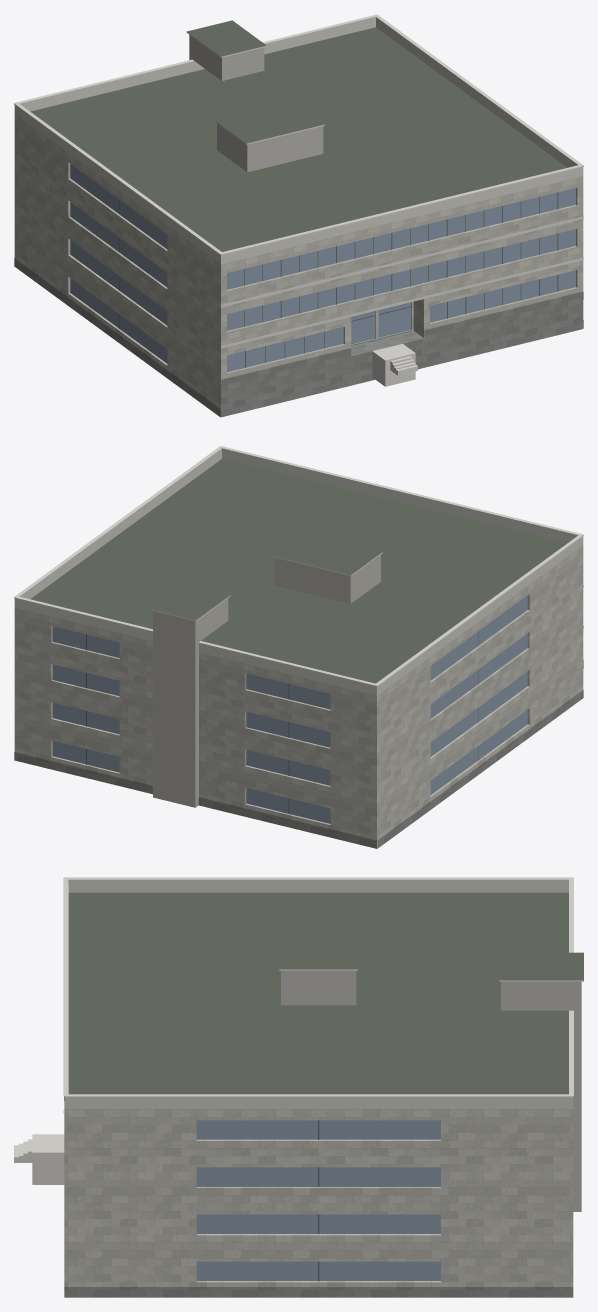
3 views of the same model, one above another, from view 1: azimuth 30°, elevation 25°; view 2: azimuth 150°, elevation 25°; view 3: azimuth 270°, elevation 25° (orthographic). The views are drawn at different scales.
Parts seen in each view (by area): view 1: b945__roof, b945__wall, b945__glass, b945__base, b945__parapet, b945__trim, b945__wall2, b945__entranceStair, b945__frame; view 2: b945__wall, b945__roof, b945__glass, b945__wall2, b945__parapet, b945__base, b945__trim; view 3: b945__roof, b945__wall, b945__glass, b945__parapet, b945__wall2, b945__trim, b945__base, b945__entranceStair.
Part boxes in pixels (<box>): b945__roof: <box>30,20,582,417</box>; b945__wall: <box>14,114,583,416</box>; b945__glass: <box>70,164,575,372</box>; b945__base: <box>14,258,583,416</box>; b945__parapet: <box>14,17,583,264</box>; b945__trim: <box>14,14,583,348</box>; b945__wall2: <box>189,35,323,172</box>; b945__entranceStair: <box>372,343,417,386</box>; b945__frame: <box>119,192,558,367</box>; b945__wall: <box>14,545,583,848</box>; b945__roof: <box>30,459,567,848</box>; b945__glass: <box>52,595,527,823</box>; b945__wall2: <box>153,555,380,807</box>; b945__parapet: <box>14,448,583,695</box>; b945__base: <box>14,660,583,848</box>; b945__trim: <box>14,446,583,686</box>; b945__roof: <box>68,892,583,1094</box>; b945__wall: <box>64,1109,573,1286</box>; b945__glass: <box>196,1120,440,1280</box>; b945__parapet: <box>64,879,573,1108</box>; b945__wall2: <box>281,971,581,1211</box>; b945__trim: <box>63,877,583,1112</box>; b945__base: <box>64,1096,573,1297</box>; b945__entranceStair: <box>14,1134,64,1184</box>.
Size of the model in its own units: 35.92 by 17.81 by 39.51.
10 materials, 2 textured.
